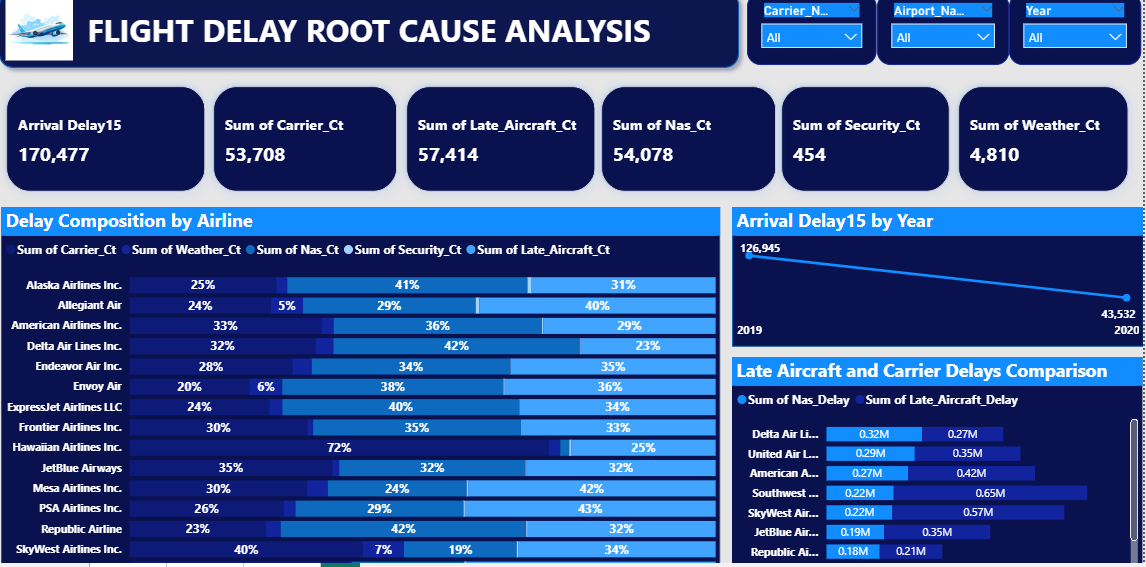

What the dashboard file says about the page in this screenshot:
{"tool":"powerbi","page":{"name":"Page 2","canvas":[1280,720],"ordinal":1},"visuals":[{"type":"shape","box":[823.1,248.5,457.4,155.3],"z":0},{"type":"shape","box":[11.3,248.5,799.1,471.5],"z":1000},{"type":"cardVisual","fields":{"Data":["Sum(Aviation.Carrier_Ct)"]},"box":[230.1,97.4,238.6,151.1],"z":2000},{"type":"cardVisual","fields":{"Data":["Sum(Aviation.Security_Ct)"]},"box":[861.2,97.4,221.6,151.1],"z":3000},{"type":"hundredPercentStackedBarChart","title":"Delay Composition by Airline","fields":{"Category":["Aviation.Carrier_Name"],"Y":["Sum(Aviation.Carrier_Ct)","Sum(Aviation.Weather_Ct)","Sum(Aviation.Nas_Ct)","Sum(Aviation.Security_Ct)","Sum(Aviation.Late_Aircraft_Ct)"]},"box":[11.3,248.5,799.1,471.5],"z":4000},{"type":"cardVisual","fields":{"Data":["Measure.Arrival Delay15"]},"box":[0,97.4,255.5,151.1],"z":5000},{"type":"lineChart","fields":{"Y":["Measure.Arrival Delay15"],"Category":["Aviation.Year"]},"box":[823.1,248.5,457.4,155.3],"z":6000},{"type":"slicer","fields":{"Values":["airline_delay - Copy.carrier_name"]},"box":[840,11.3,144,80.5],"z":7000},{"type":"slicer","fields":{"Values":["Aviation.airport_name"]},"box":[984,11.3,146.8,80.5],"z":8000},{"type":"slicer","fields":{"Values":["Aviation.year"]},"box":[1130.8,11.3,146.8,80.5],"z":9000},{"type":"cardVisual","fields":{"Data":["Sum(Aviation.Weather_Ct)"]},"box":[1057.4,97.4,223.1,151.1],"z":10000},{"type":"cardVisual","fields":{"Data":["Sum(Aviation.Late_Aircraft_Ct)"]},"box":[444.7,97.4,244.2,151.1],"z":11000},{"type":"cardVisual","fields":{"Data":["Sum(Aviation.Nas_Ct)"]},"box":[660.7,97.4,228.7,151.1],"z":12000},{"type":"shape","box":[0,0,840,103.1],"z":13000},{"type":"image","box":[11.3,11.3,84.7,80.5],"z":14000},{"type":"barChart","title":"Late Aircraft and Carrier Delays Comparison","fields":{"Category":["Aviation.Carrier_Name"],"Y":["Sum(Aviation.Nas_Delay)","Sum(Aviation.Late_Aircraft_Delay)"]},"box":[823.1,415.1,456,304.9],"z":15000}]}

Visuals, with their boxes on the page's 1280x720 design canvas (x1, y1, x2, y2). These are canvas units, not pixel positions in the 1146x567 screenshot, which may show the page scaled, cropped or inside an application window:
shape: [823, 248, 1280, 404]
shape: [11, 248, 810, 720]
cardVisual - Sum(Aviation.Carrier_Ct): [230, 97, 469, 248]
cardVisual - Sum(Aviation.Security_Ct): [861, 97, 1083, 248]
"Delay Composition by Airline" hundredPercentStackedBarChart: [11, 248, 810, 720]
cardVisual - Measure.Arrival Delay15: [0, 97, 256, 248]
lineChart - Measure.Arrival Delay15 x Aviation.Year: [823, 248, 1280, 404]
slicer - airline_delay - Copy.carrier_name: [840, 11, 984, 92]
slicer - Aviation.airport_name: [984, 11, 1131, 92]
slicer - Aviation.year: [1131, 11, 1278, 92]
cardVisual - Sum(Aviation.Weather_Ct): [1057, 97, 1280, 248]
cardVisual - Sum(Aviation.Late_Aircraft_Ct): [445, 97, 689, 248]
cardVisual - Sum(Aviation.Nas_Ct): [661, 97, 889, 248]
shape: [0, 0, 840, 103]
image: [11, 11, 96, 92]
"Late Aircraft and Carrier Delays Comparison" barChart: [823, 415, 1279, 720]
